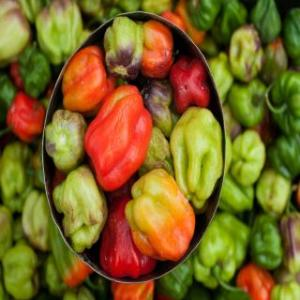bell_pepper: (84, 80, 156, 186), (127, 165, 194, 263), (58, 163, 110, 251), (173, 106, 223, 196), (188, 220, 244, 294), (58, 41, 106, 115), (98, 18, 144, 78), (170, 49, 214, 108), (131, 20, 175, 77), (47, 105, 85, 169), (266, 69, 300, 133), (230, 130, 266, 184), (250, 213, 283, 269)
